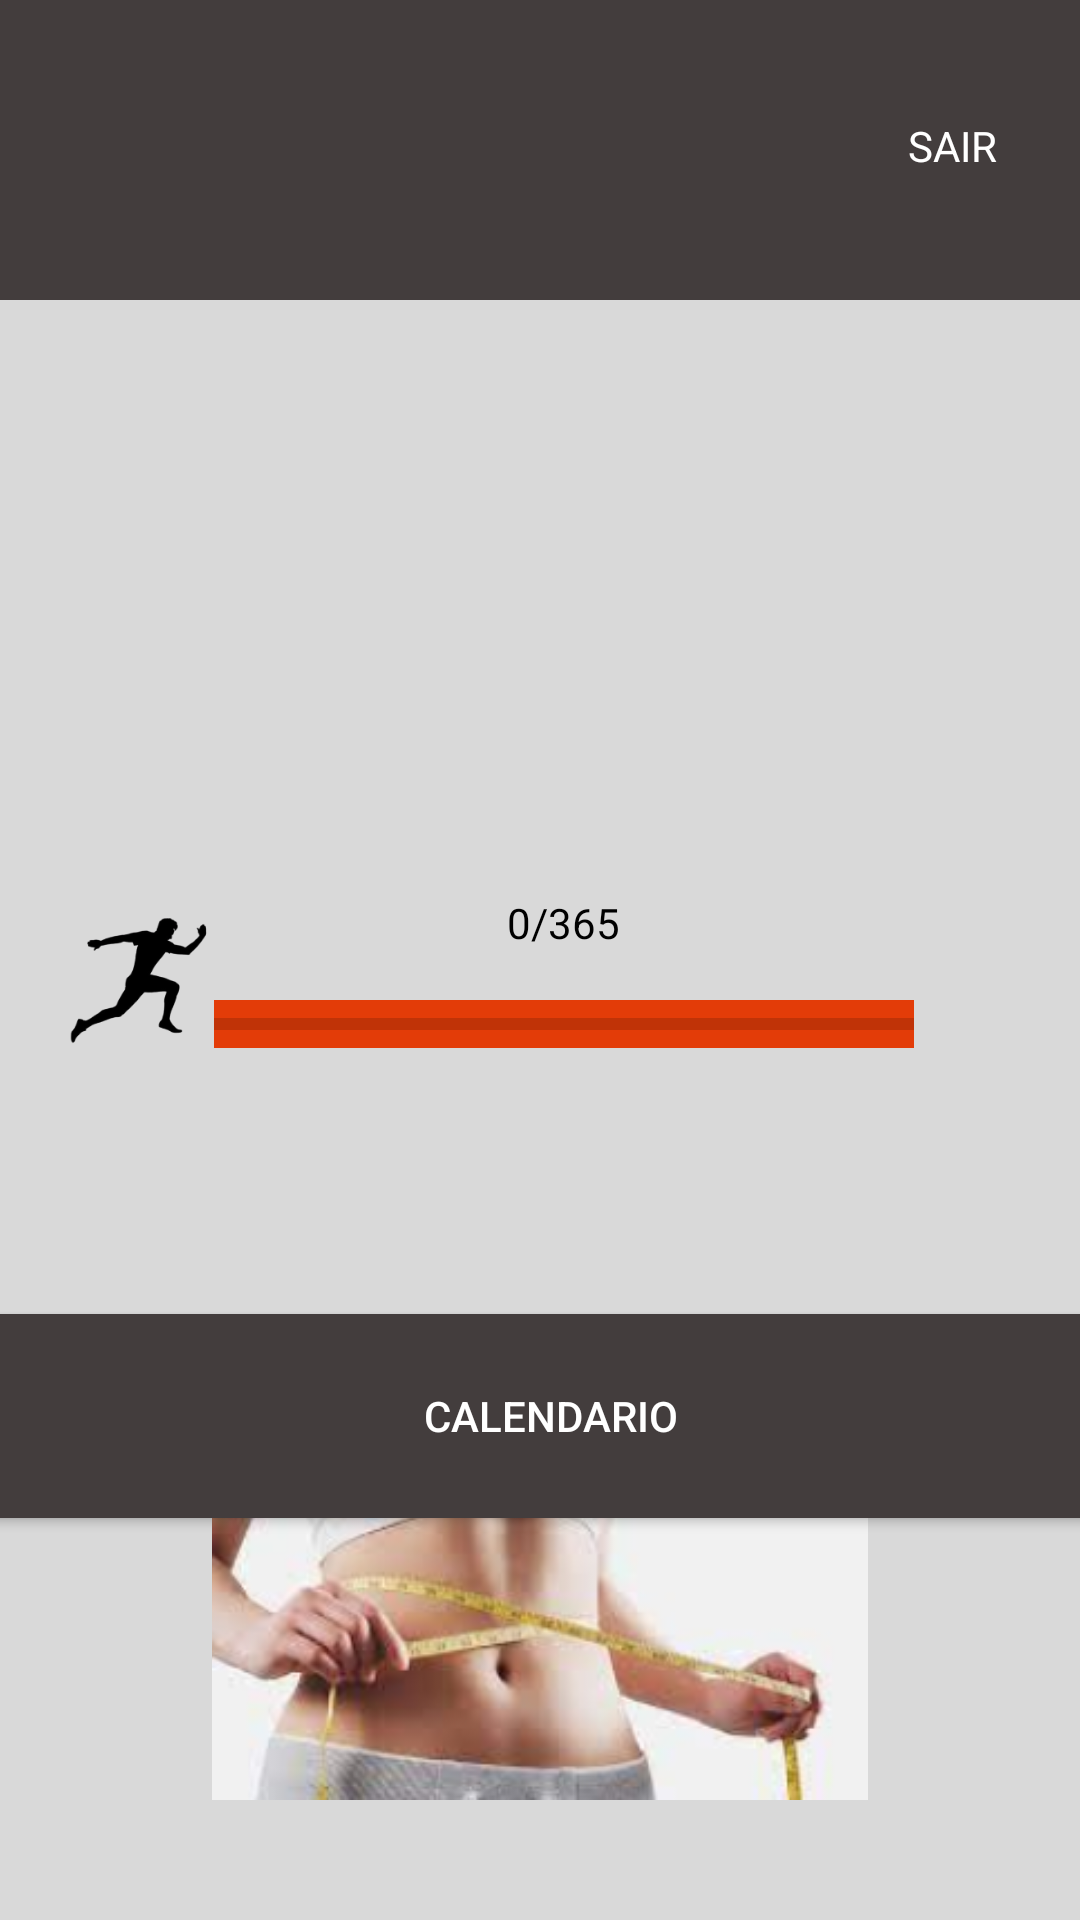

Named icons in this screenshot (1080x1920) and their bounding boxes, (x1, y1, x2, y2):
atleta: (70, 918, 207, 1043)
